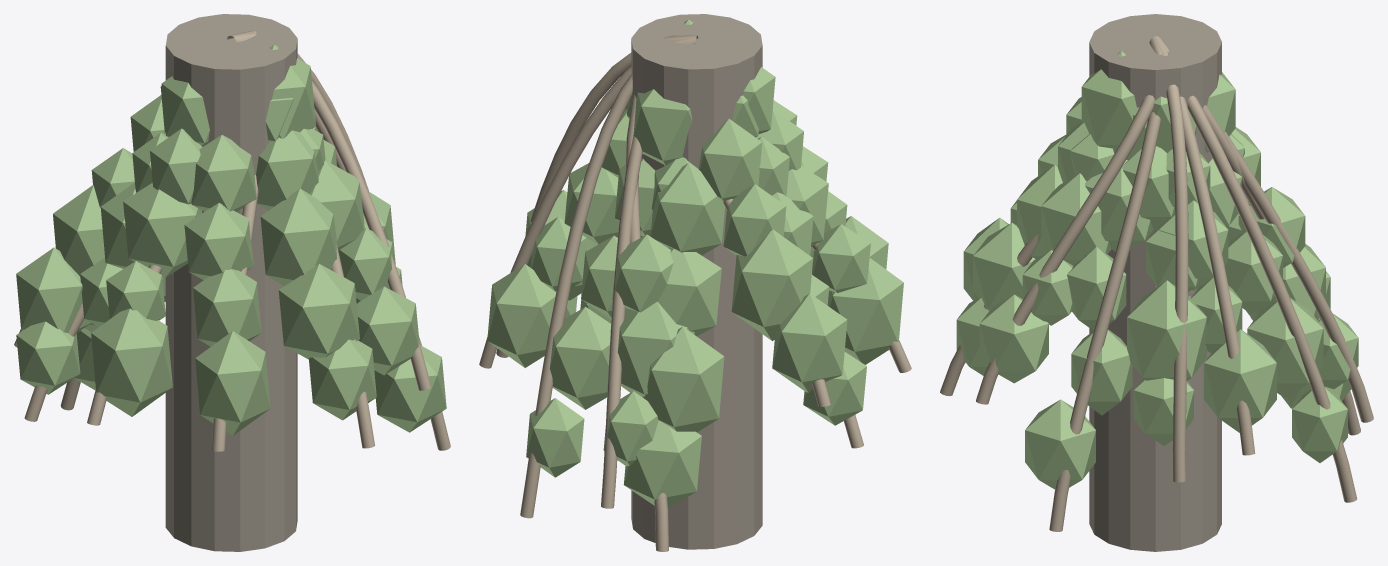
The model's file is willow_mature.glb.
The picture shows the model from 3 angles, left to right: view 1: azimuth 30°, elevation 25°; view 2: azimuth 150°, elevation 25°; view 3: azimuth 270°, elevation 25°; orthographic projection.
Parts seen in each view (by area): view 1: WillowMatureTrunk, WillowMatureLeafCluster_7_4, WillowMatureLeafCluster_9_3, WillowMatureLeafCluster_8_4, WillowMatureLeafCluster_9_2, WillowMatureLeafCluster_7_2, WillowMatureLeafCluster_5_4, WillowMatureLeafCluster_8_3, WillowMatureLeafCluster_8_2, WillowMatureLeafCluster_10_4, WillowMatureLeafCluster_9_4, WillowMatureLeafCluster_11_4 (+26 smaller); view 2: WillowMatureTrunk, WillowMatureLeafCluster_4_3, WillowMatureLeafCluster_5_3, WillowMatureBranchCurve_2, WillowMatureLeafCluster_5_4, WillowMatureLeafCluster_1_4, WillowMatureLeafCluster_4_1, WillowMatureLeafCluster_2_3, WillowMatureLeafCluster_7_4, WillowMatureLeafCluster_4_4, WillowMatureBranchCurve_3, WillowMatureLeafCluster_4_2 (+28 smaller); view 3: WillowMatureTrunk, WillowMatureLeafCluster_0_3, WillowMatureBranchCurve_2, WillowMatureBranchCurve_11, WillowMatureBranchCurve_0, WillowMatureLeafCluster_1_4, WillowMatureLeafCluster_11_4, WillowMatureLeafCluster_10_4, WillowMatureBranchCurve_10, WillowMatureBranchCurve_1, WillowMatureLeafCluster_2_3, WillowMatureBranchCurve_3 (+29 smaller).
Boxes of the visible parts, box(x1,y1,x2,y2) form: WillowMatureTrunk: box(165, 14, 297, 551); WillowMatureLeafCluster_7_4: box(91, 308, 172, 416); WillowMatureLeafCluster_9_3: box(278, 263, 359, 359); WillowMatureLeafCluster_8_4: box(195, 331, 270, 435); WillowMatureLeafCluster_9_2: box(260, 188, 337, 286); WillowMatureLeafCluster_7_2: box(123, 183, 201, 277); WillowMatureLeafCluster_5_4: box(16, 247, 90, 332); WillowMatureLeafCluster_8_3: box(193, 269, 261, 346); WillowMatureLeafCluster_8_2: box(184, 203, 253, 279); WillowMatureLeafCluster_10_4: box(356, 286, 419, 375); WillowMatureLeafCluster_9_4: box(308, 339, 376, 420); WillowMatureLeafCluster_11_4: box(374, 345, 446, 432); WillowMatureTrunk: box(631, 14, 762, 549); WillowMatureLeafCluster_4_3: box(642, 326, 724, 432); WillowMatureLeafCluster_5_3: box(731, 229, 813, 340); WillowMatureBranchCurve_2: box(520, 41, 671, 518); WillowMatureLeafCluster_5_4: box(772, 293, 847, 392); WillowMatureLeafCluster_1_4: box(487, 264, 556, 367); WillowMatureLeafCluster_4_1: box(650, 163, 724, 255); WillowMatureLeafCluster_2_3: box(549, 307, 611, 409); WillowMatureLeafCluster_7_4: box(827, 258, 903, 364); WillowMatureLeafCluster_4_4: box(623, 420, 701, 508); WillowMatureBranchCurve_3: box(601, 35, 698, 508); WillowMatureLeafCluster_4_2: box(658, 247, 721, 336); WillowMatureTrunk: box(1089, 14, 1221, 551); WillowMatureLeafCluster_0_3: box(1127, 280, 1206, 380); WillowMatureBranchCurve_2: box(1167, 51, 1357, 502); WillowMatureBranchCurve_11: box(1049, 112, 1160, 531); WillowMatureBranchCurve_0: box(1154, 36, 1188, 482); WillowMatureLeafCluster_1_4: box(1204, 329, 1276, 432); WillowMatureLeafCluster_11_4: box(1025, 399, 1095, 489); WillowMatureLeafCluster_10_4: box(979, 294, 1048, 383); WillowMatureBranchCurve_10: box(976, 37, 1161, 404); WillowMatureBranchCurve_1: box(1180, 96, 1255, 455); WillowMatureLeafCluster_2_3: box(1247, 297, 1323, 398); WillowMatureBranchCurve_3: box(1224, 132, 1373, 422).
Bounding box in the file's own units: 1.64 × 2.02 × 1.63.
